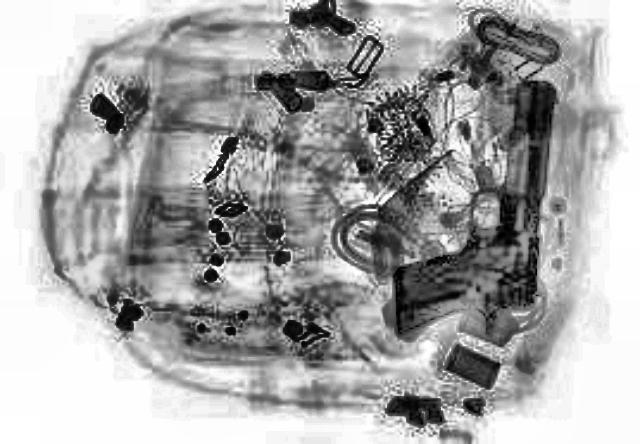Gun: (384, 76, 556, 332)
